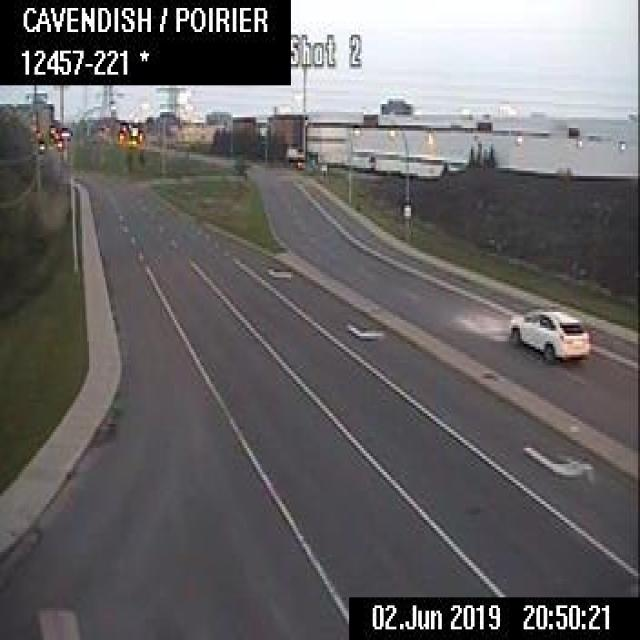vehicle: (506, 304, 589, 363)
